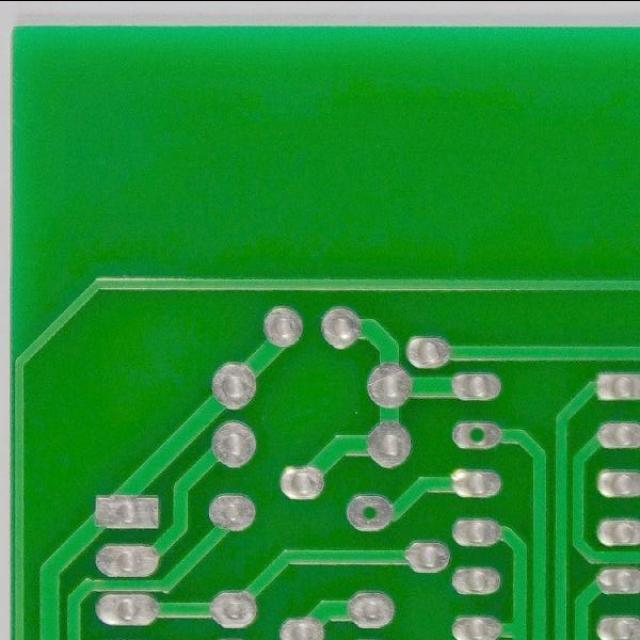Missing_Hole: (340, 490, 400, 536), (449, 417, 505, 453)
